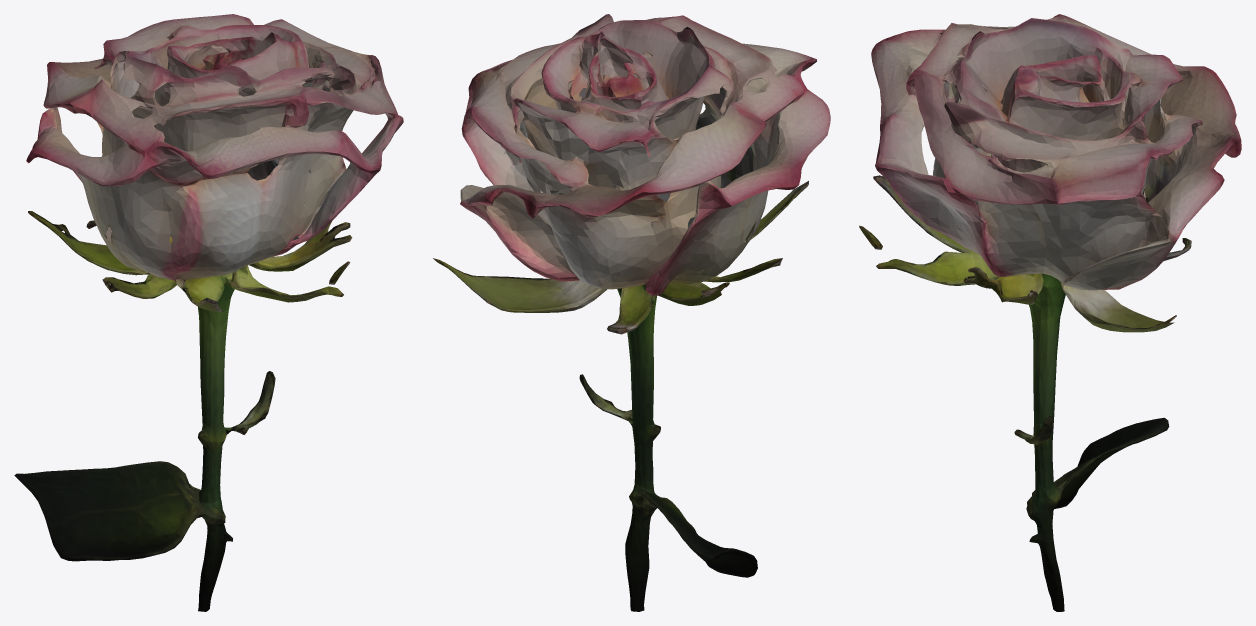
3 renders of one model, left to right at view 1: azimuth 30°, elevation 25°; view 2: azimuth 150°, elevation 25°; view 3: azimuth 270°, elevation 25°, orthographic. The views are drawn at different scales.
Visible parts, largest first — view 1: world; view 2: world; view 3: world.
Boxes of the visible parts, x1=… form: world: x1=14, y1=14, x2=403, y2=611; world: x1=433, y1=14, x2=830, y2=611; world: x1=859, y1=14, x2=1241, y2=611.
Bounding box in the file's own units: 0.63 × 0.9967 × 0.606.
1 material, 1 textured.
